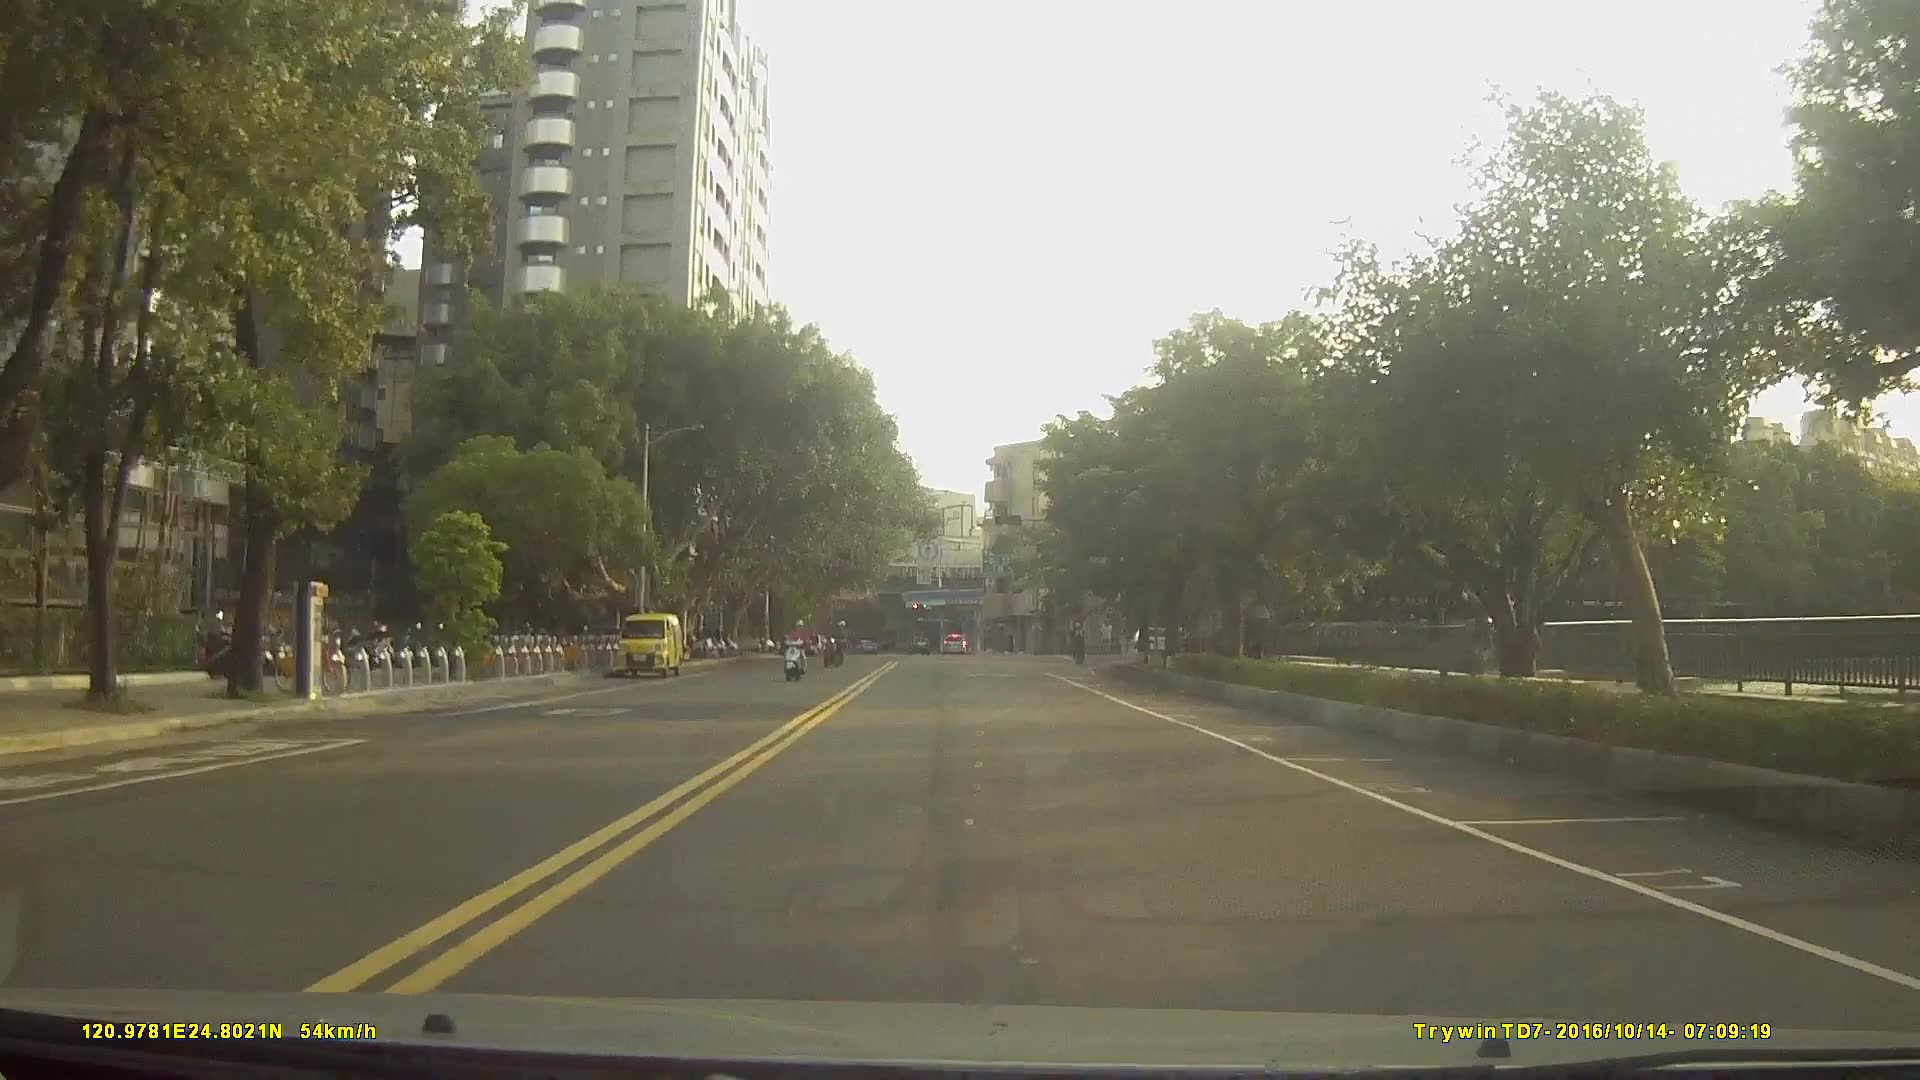pedestrian: (1096, 619, 1116, 657)
rider: (781, 616, 813, 676), (821, 619, 850, 671), (1068, 621, 1089, 668)
vehicle: (936, 632, 966, 657)
